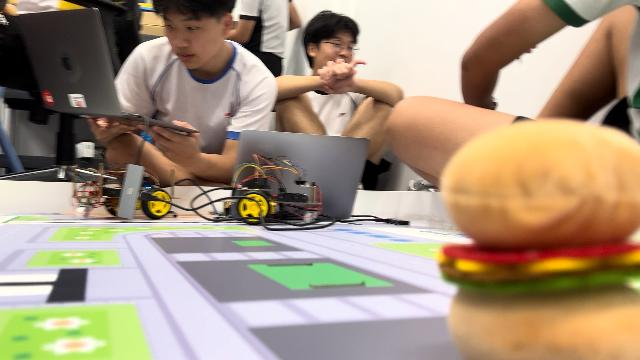burger: (434, 118, 640, 360)
